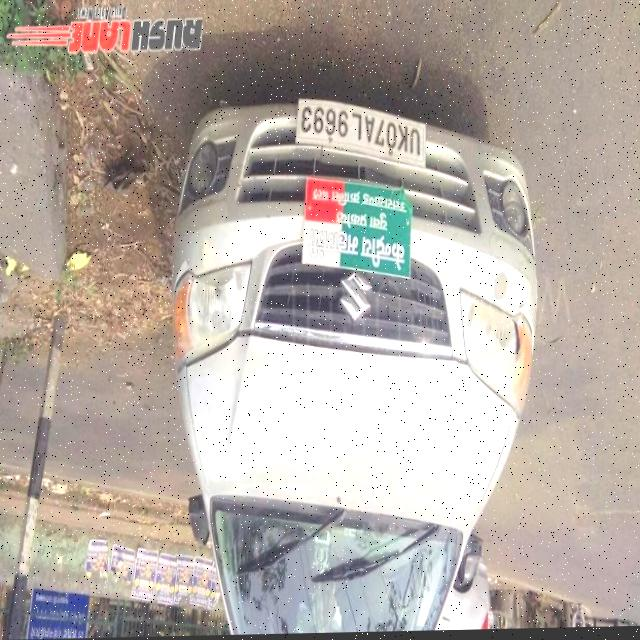plate: (295, 98, 429, 173)
